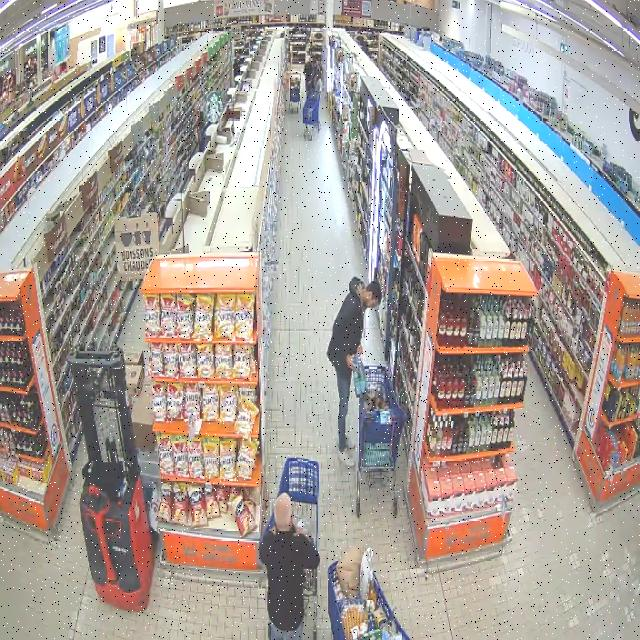article: (353, 353, 368, 398)
hands: (295, 526, 311, 540), (346, 355, 353, 370), (358, 345, 363, 355), (270, 526, 276, 534)
person: (327, 277, 381, 466), (260, 494, 319, 639)
